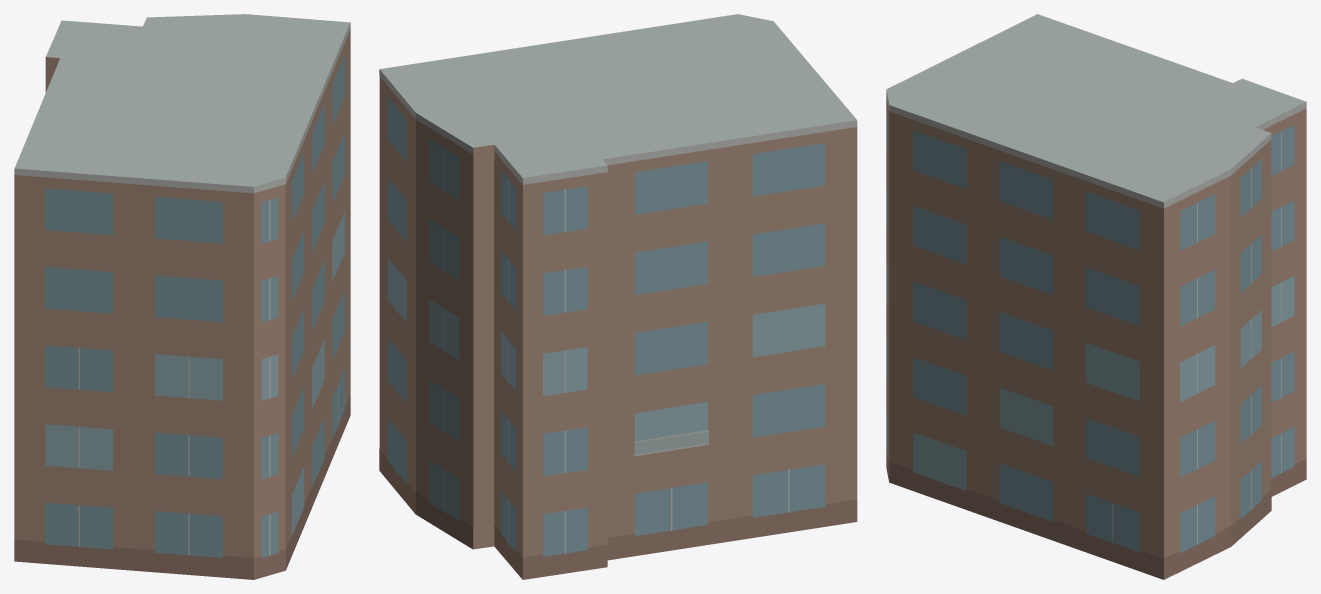
Rendered from survey-upis-32902332.glb.
3 renders of one model, left to right at view 1: azimuth 30°, elevation 25°; view 2: azimuth 150°, elevation 25°; view 3: azimuth 270°, elevation 25°, orthographic. The views are drawn at different scales.
Visible parts, largest first — view 1: survey-upis-32902332.tmp; view 2: survey-upis-32902332.tmp; view 3: survey-upis-32902332.tmp.
Boxes of the visible parts, x1,y1,x2,y2 form: survey-upis-32902332.tmp: [14, 14, 350, 579]; survey-upis-32902332.tmp: [379, 14, 857, 579]; survey-upis-32902332.tmp: [886, 14, 1306, 579].
Size of the model in its own units: 15.76 by 14.73 by 14.87.
